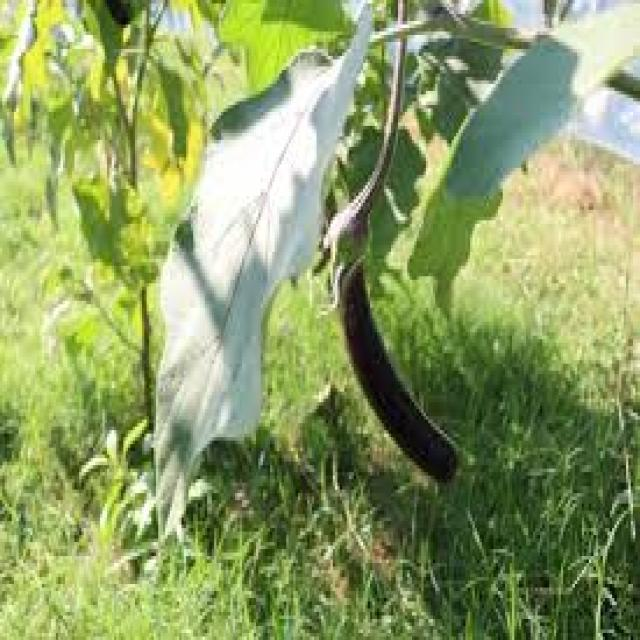Eggplant: (327, 40, 459, 488)
